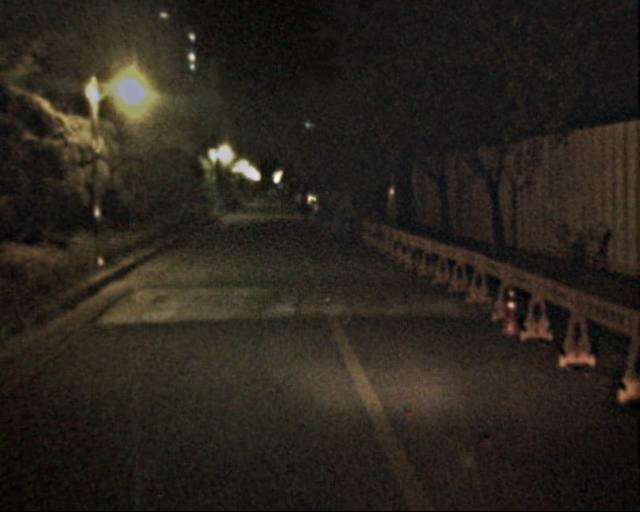person: (326, 191, 344, 235), (340, 190, 358, 233), (314, 193, 332, 236), (297, 189, 312, 225)
